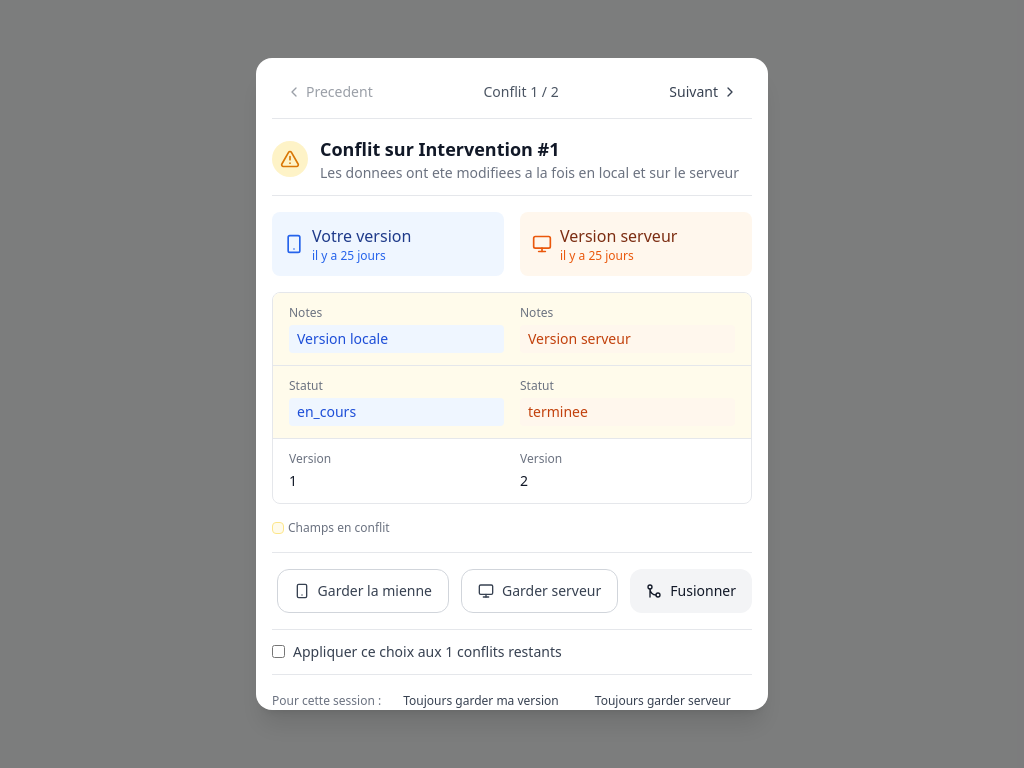
it: ConflictQueue › navigates between conflicts with next/prev buttons
Expected: the heading "Conflit sur Intervention #1" is shown, top-left (320, 137), bottom-right (560, 161)
Click the button "Suivant": (704, 92) top-left (655, 74), bottom-right (752, 110)
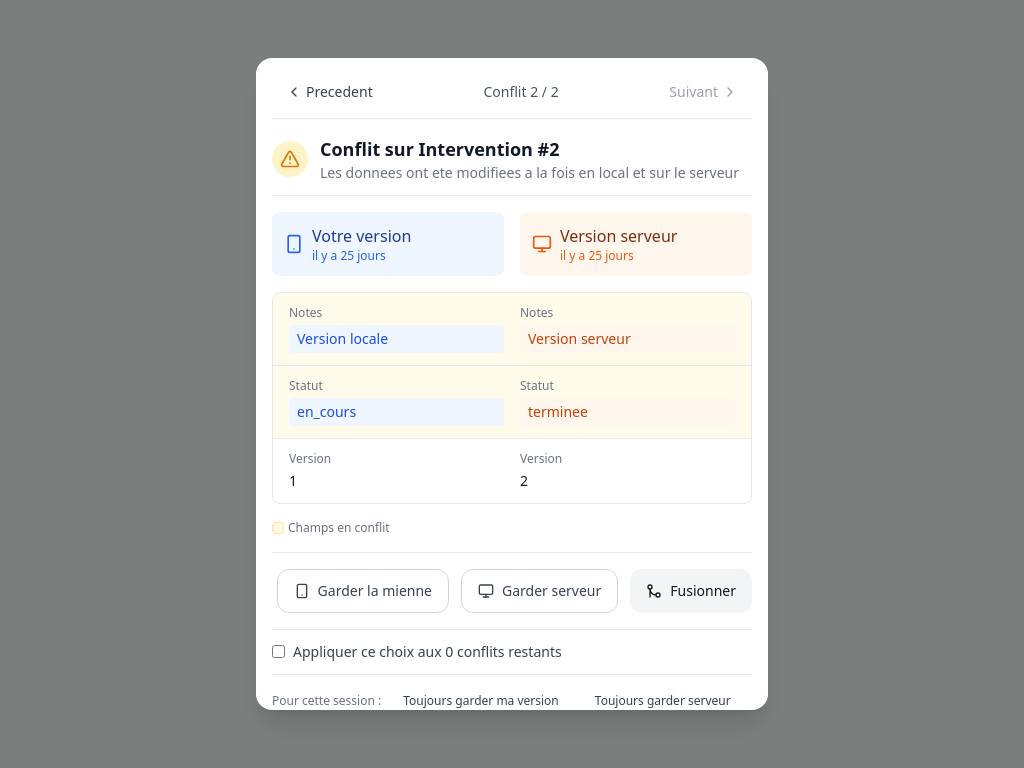
Expected: the heading "Conflit sur Intervention #2" is shown, top-left (320, 137), bottom-right (560, 161)
Expected: the text "Conflit 2 / 2" is shown, top-left (483, 82), bottom-right (559, 102)
Click the button "Precedent": (329, 92) top-left (272, 74), bottom-right (387, 110)
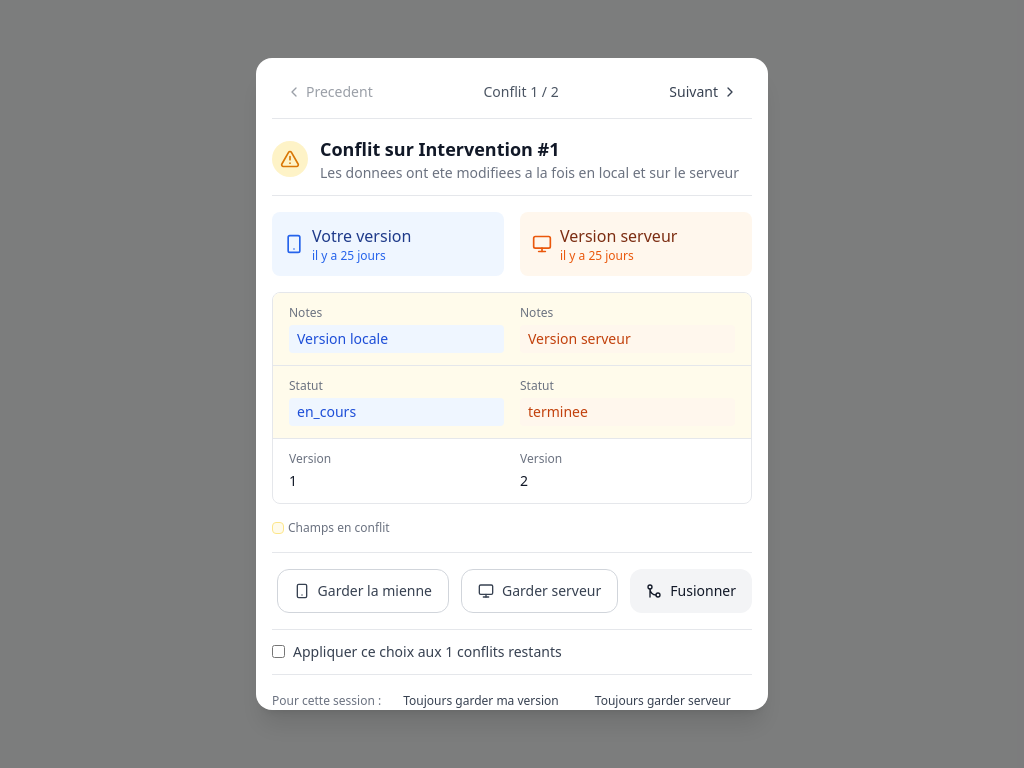
Expected: the heading "Conflit sur Intervention #1" is shown, top-left (320, 137), bottom-right (560, 161)
